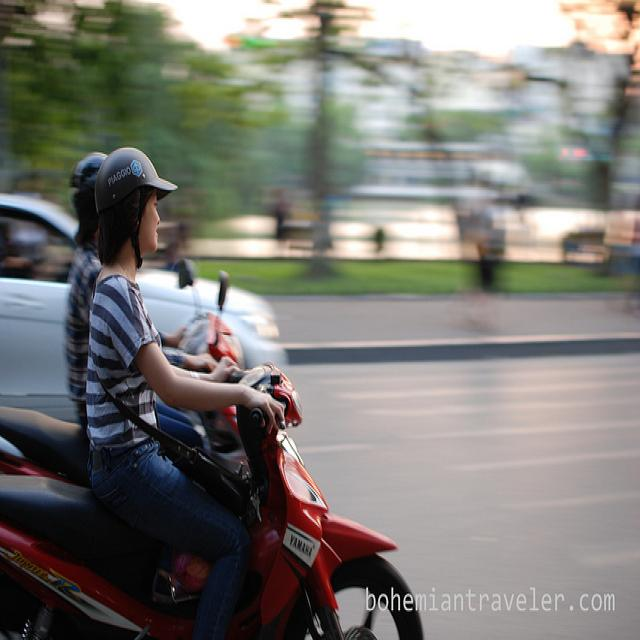motor: (1, 363, 423, 640), (2, 308, 245, 474)
